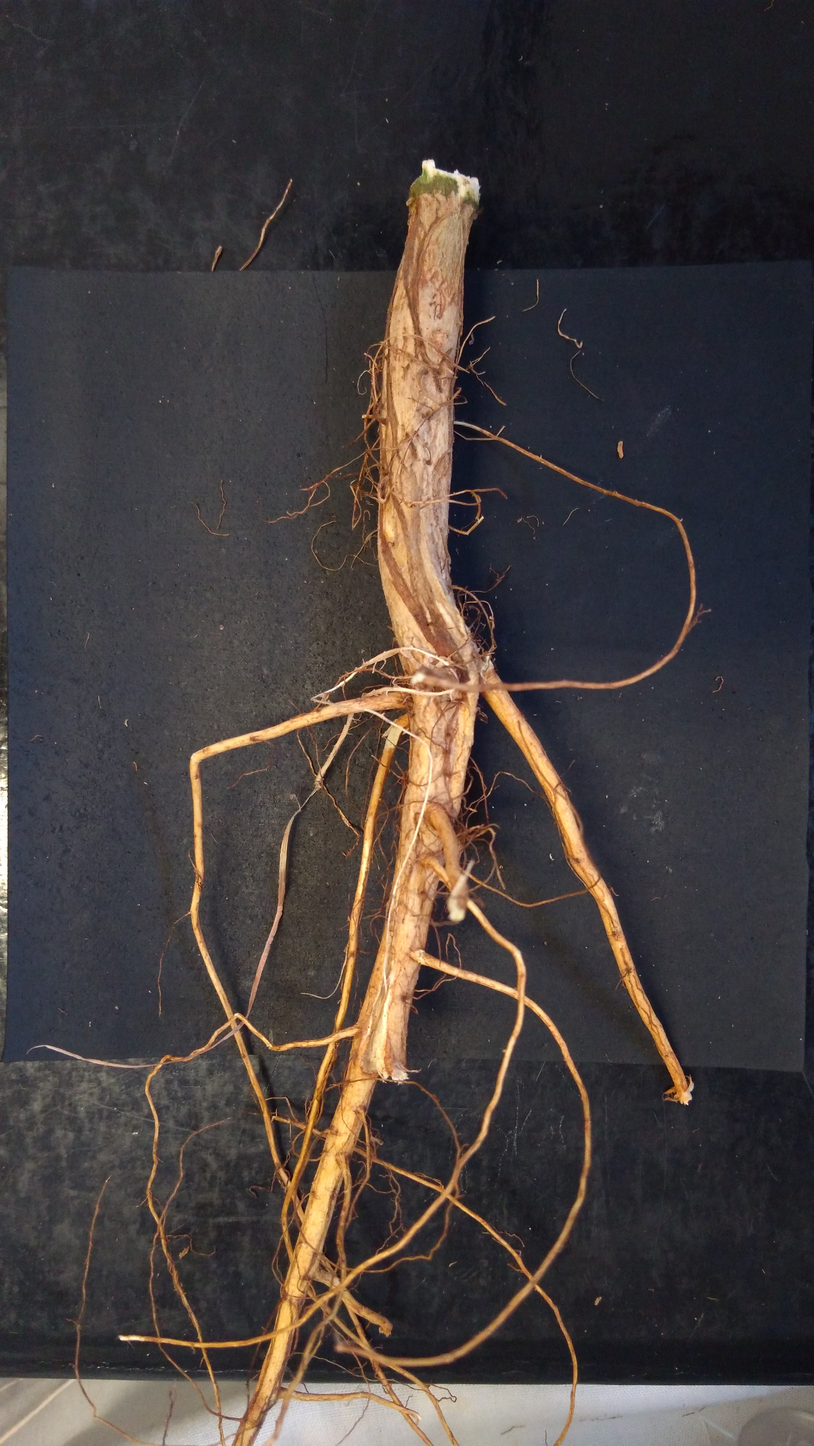nodule: (424, 656, 462, 702), (379, 1326, 392, 1337), (489, 616, 493, 619)
